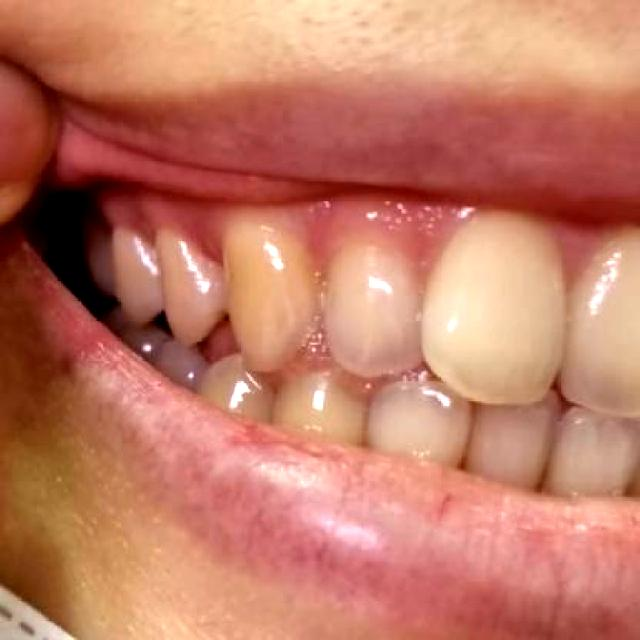Plaque: (380, 217, 455, 286), (557, 224, 612, 295), (290, 219, 343, 287), (176, 228, 224, 263)
